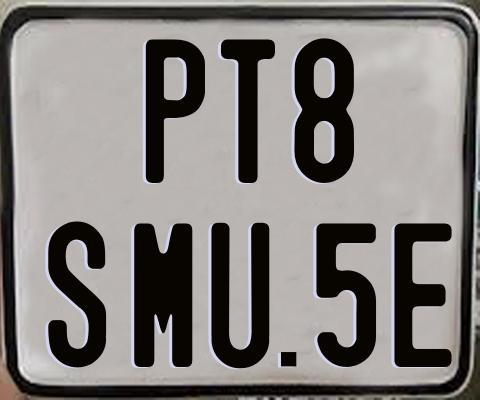5: (314, 222, 374, 370)
8: (294, 37, 356, 187)
E: (392, 221, 455, 370)
M: (131, 223, 191, 373)
P: (143, 36, 208, 182)
S: (46, 220, 109, 371)
T: (219, 36, 277, 184)
U: (210, 220, 270, 367)
